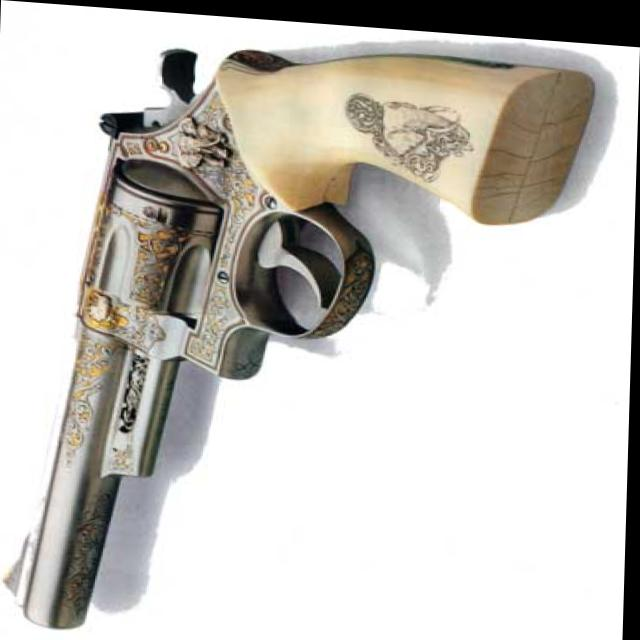handgun: (0, 18, 591, 640)
